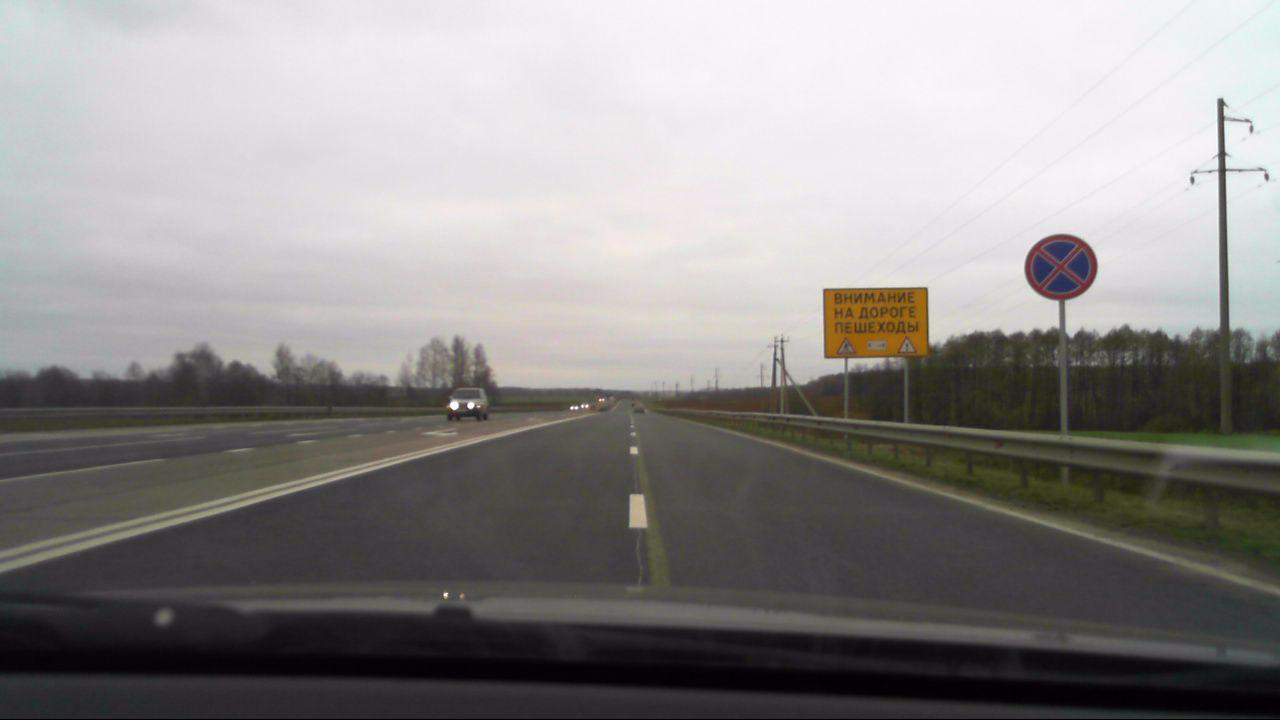1_22: (838, 338, 857, 355)
1_33: (894, 332, 921, 358)
3_27: (1020, 233, 1098, 300)
8_2_1: (865, 339, 888, 351)
